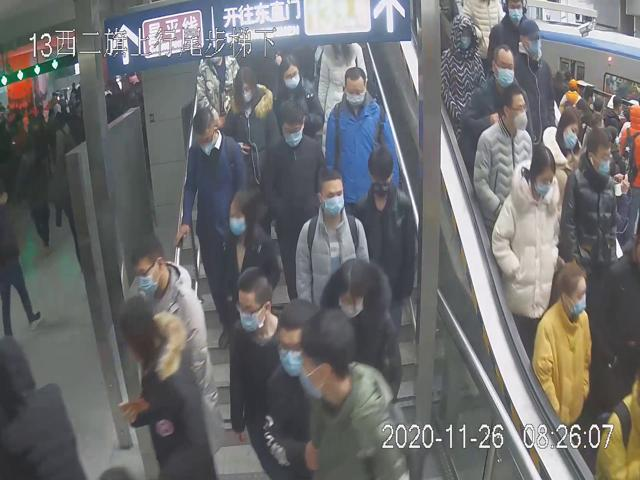person: (486, 141, 566, 361), (179, 104, 249, 343), (226, 261, 292, 464), (323, 64, 401, 233), (522, 253, 594, 426), (356, 140, 416, 346), (290, 164, 369, 315), (261, 99, 322, 272), (474, 81, 536, 232), (222, 62, 279, 198), (220, 181, 280, 308), (266, 47, 321, 138)
